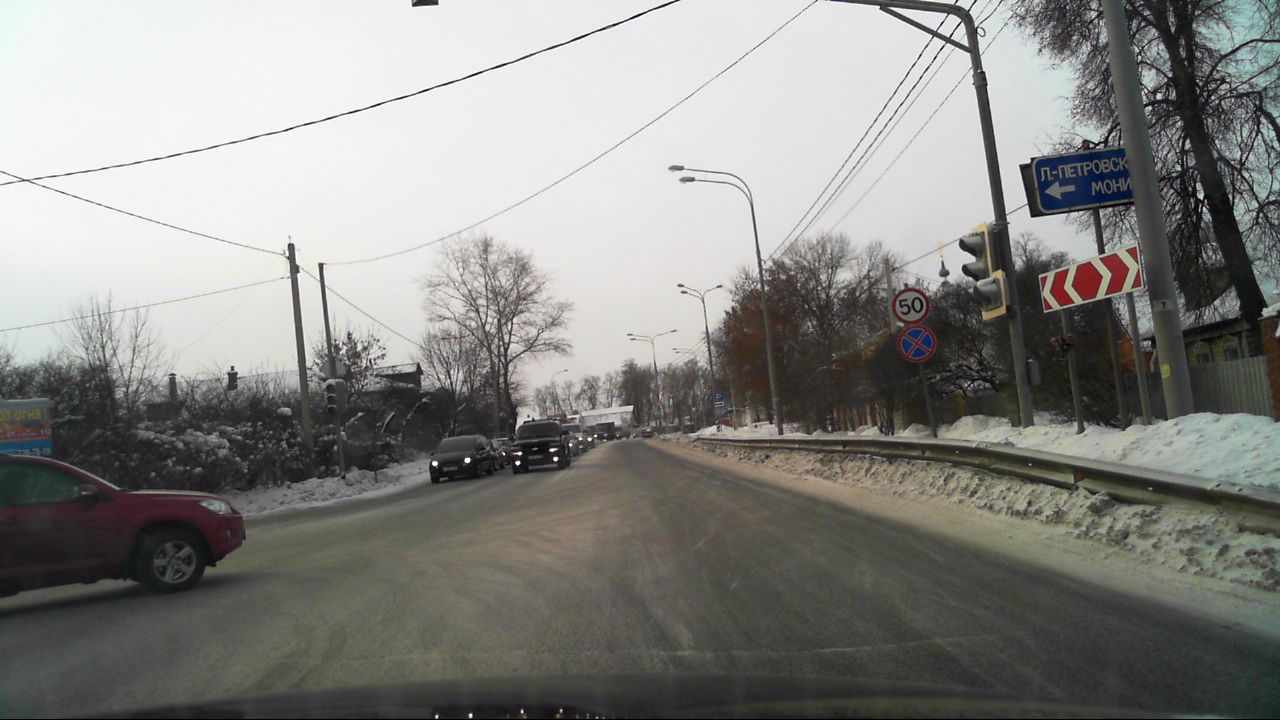No Parking: (898, 326, 935, 363)
